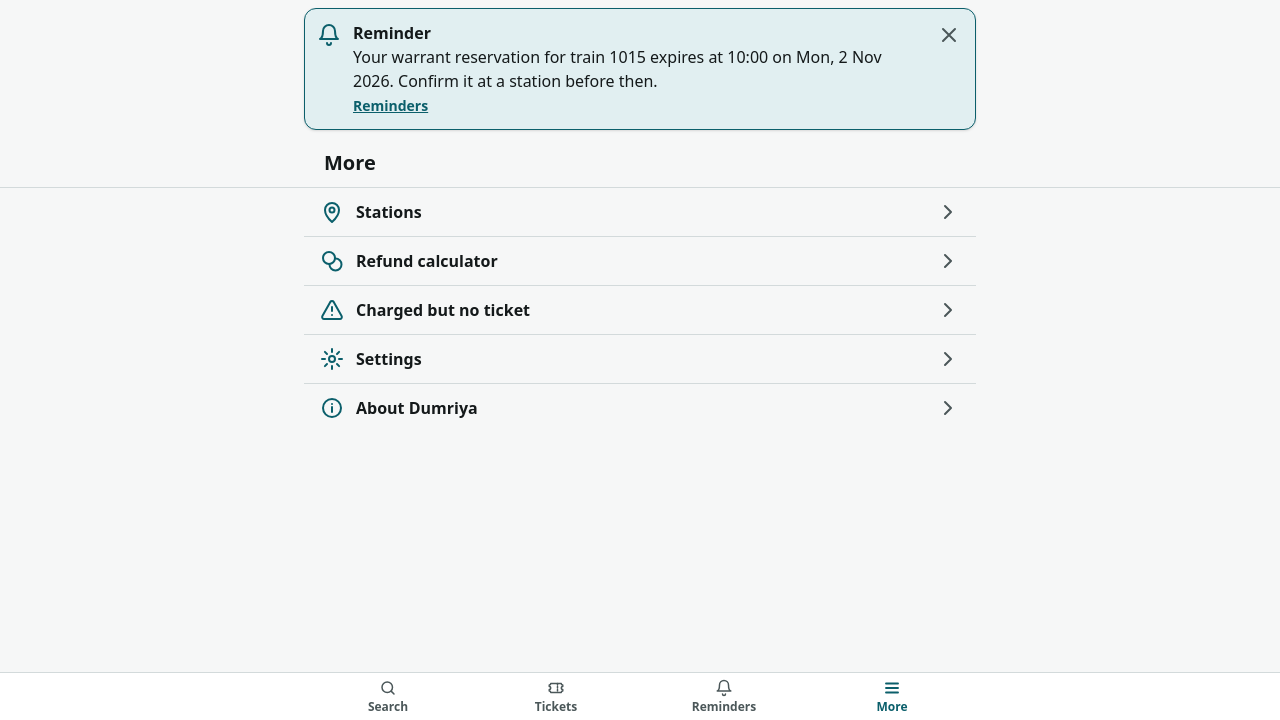
Test: alerts actually fire › dismiss hides the banner
Click the button named "Dismiss". click: (949, 35)
box: [927,13,971,57]
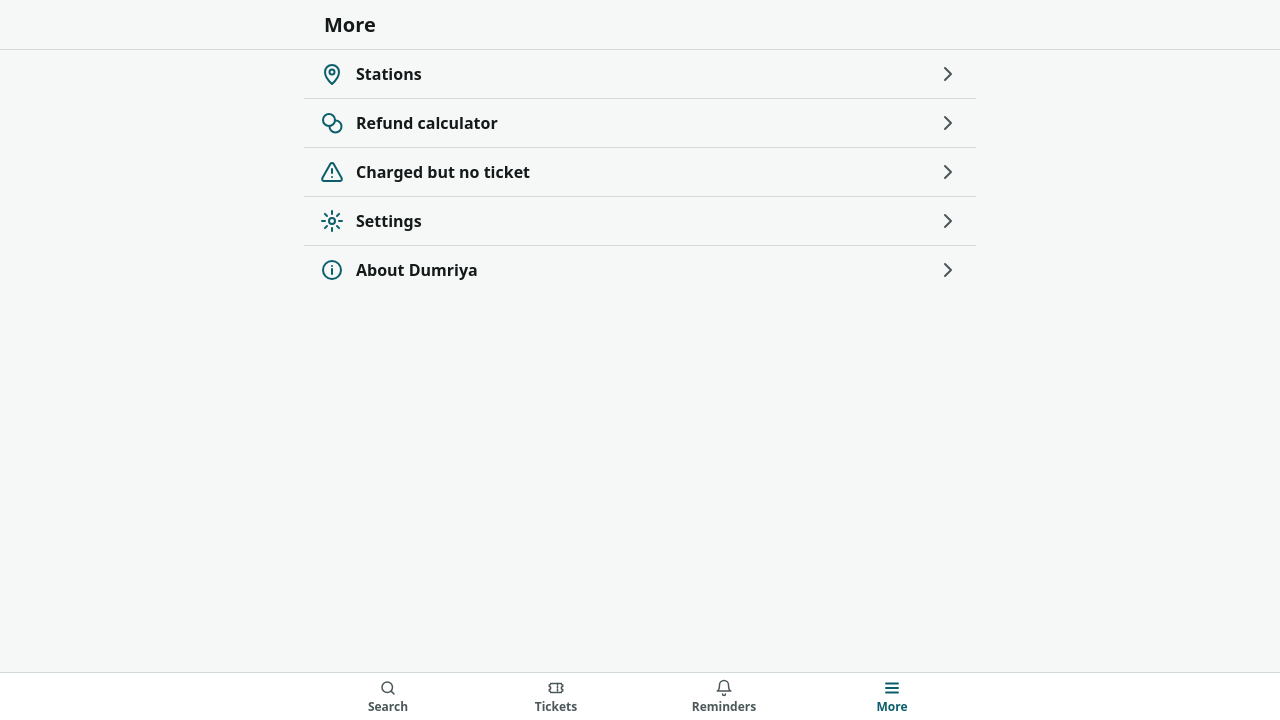
Expected: the message "Reminder Your warrant reservation for train 1015 expires at 10:00 on Mon, 2 Nov" is gone
